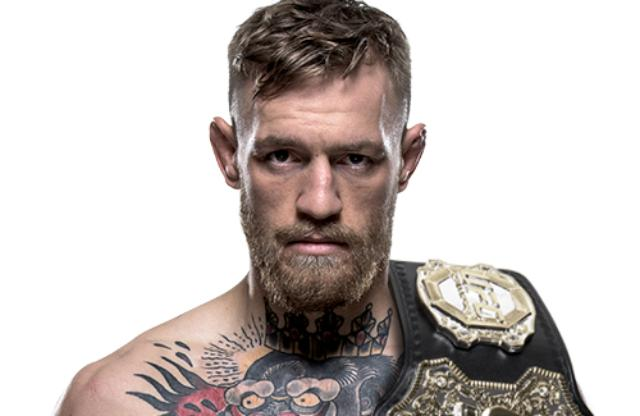forehead: (295, 100, 351, 118), (264, 106, 296, 127)
